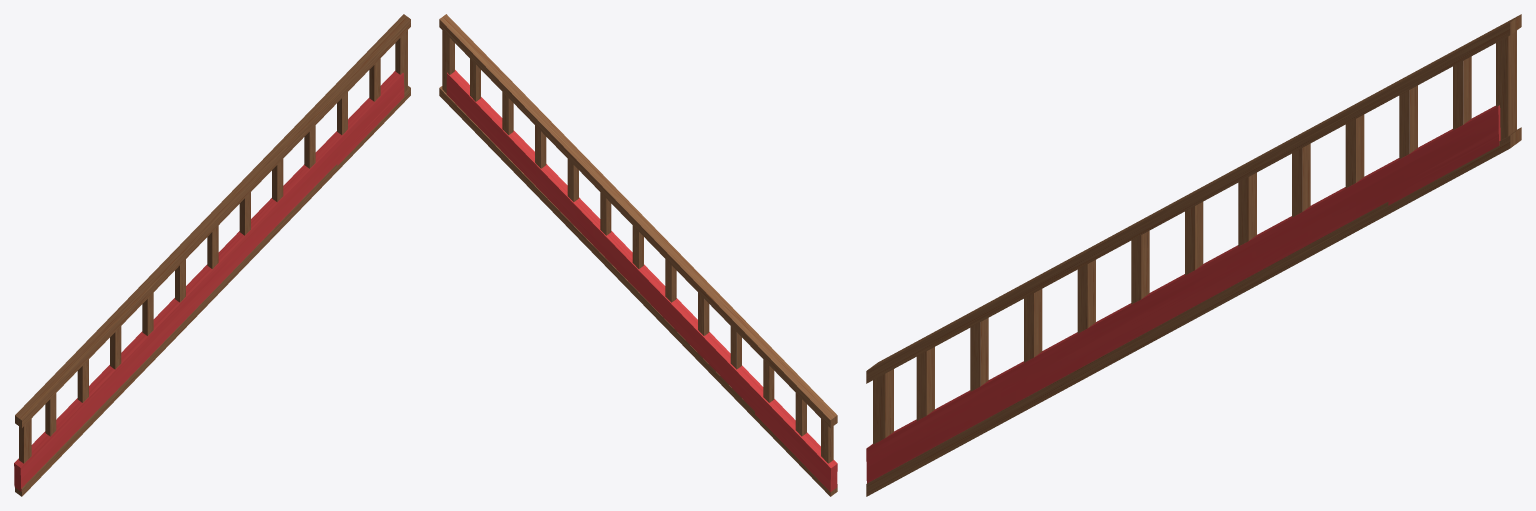
Rendered from sm_building_stairs03_01.fbx.
3 renders of one model, left to right at view 1: azimuth 30°, elevation 25°; view 2: azimuth 150°, elevation 25°; view 3: azimuth 330°, elevation 25°, orthographic. The views are drawn at different scales.
Visible parts, largest first — view 1: WB1_RampFence_01, ceqiang; view 2: WB1_RampFence_01, ceqiang; view 3: WB1_RampFence_01, ceqiang.
Boxes of the visible parts, box(x1,y1,x2,y2) form: WB1_RampFence_01: box(15, 14, 410, 496); ceqiang: box(14, 71, 404, 491); WB1_RampFence_01: box(439, 14, 837, 496); ceqiang: box(446, 70, 837, 492); WB1_RampFence_01: box(866, 14, 1521, 496); ceqiang: box(866, 105, 1500, 483).
Size of the model in its own units: 513 by 480 by 17.6.
1 material, 1 textured.
